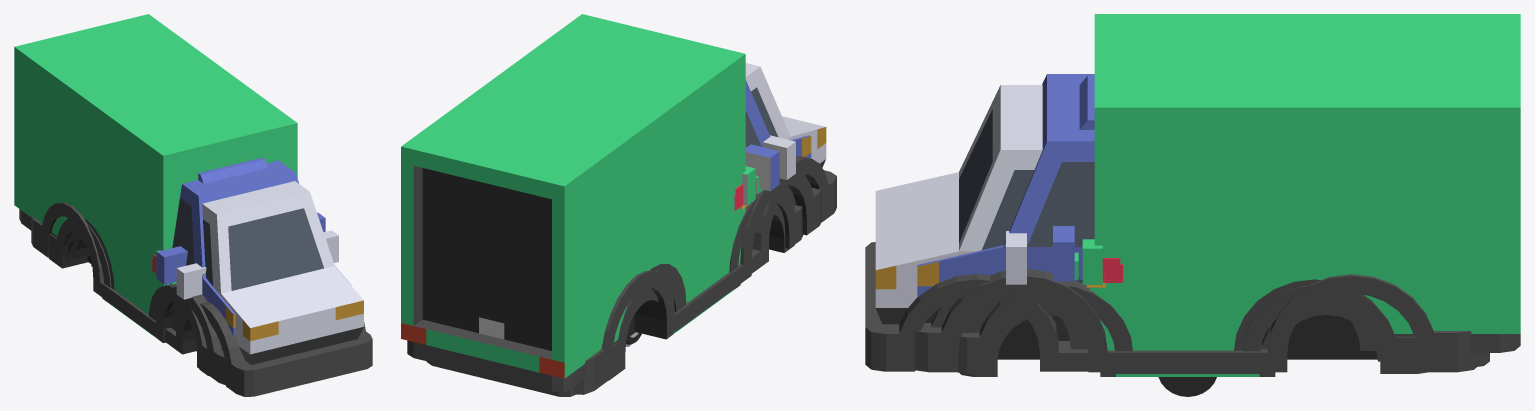
The model's file is vehicle_library.glb.
The picture shows the model from 3 angles, left to right: view 1: azimuth 30°, elevation 25°; view 2: azimuth 150°, elevation 25°; view 3: azimuth 270°, elevation 25°; orthographic projection. The views are drawn at different scales.
Visible parts, largest first — view 1: paint_boxtruck, trim_boxtruck, glass_boxtruck, paint_van, trim_van, trim_sports, glass_van, trim_hatchback; view 2: paint_boxtruck, trim_boxtruck, trim_van, trim_sports, paint_van, trim_hatchback, trim_pickup, glass_boxtruck; view 3: paint_boxtruck, trim_van, trim_boxtruck, paint_van, trim_sports, glass_van, glass_boxtruck, trim_hatchback, trim_pickup, paint_suv, wheel, trim_suv.
Boxes of the visible parts, x1,y1,x2,y2 form: paint_boxtruck: [14, 14, 363, 354]; trim_boxtruck: [19, 209, 372, 396]; glass_boxtruck: [203, 208, 323, 290]; paint_van: [156, 157, 351, 336]; trim_van: [31, 202, 235, 385]; trim_sports: [48, 219, 208, 374]; glass_van: [172, 198, 194, 265]; trim_hatchback: [65, 230, 209, 376]; paint_boxtruck: [401, 14, 826, 378]; trim_boxtruck: [401, 127, 836, 391]; trim_van: [573, 136, 821, 394]; trim_sports: [608, 188, 802, 380]; paint_van: [745, 80, 811, 190]; trim_hatchback: [626, 204, 794, 339]; trim_pickup: [426, 178, 757, 396]; glass_boxtruck: [751, 87, 778, 136]; paint_boxtruck: [875, 14, 1520, 350]; trim_van: [915, 261, 1479, 372]; trim_boxtruck: [865, 242, 1520, 371]; paint_van: [917, 74, 1094, 298]; trim_sports: [958, 281, 1427, 373]; glass_van: [1027, 162, 1094, 246]; glass_boxtruck: [959, 109, 1034, 249]; trim_hatchback: [959, 301, 1380, 376]; trim_pickup: [897, 300, 1489, 366]; paint_suv: [1082, 239, 1102, 284]; wheel: [1158, 377, 1216, 396]; trim_suv: [962, 299, 1376, 350].
Bounding box in the file's own units: 2.6 × 3.55 × 6.4.
